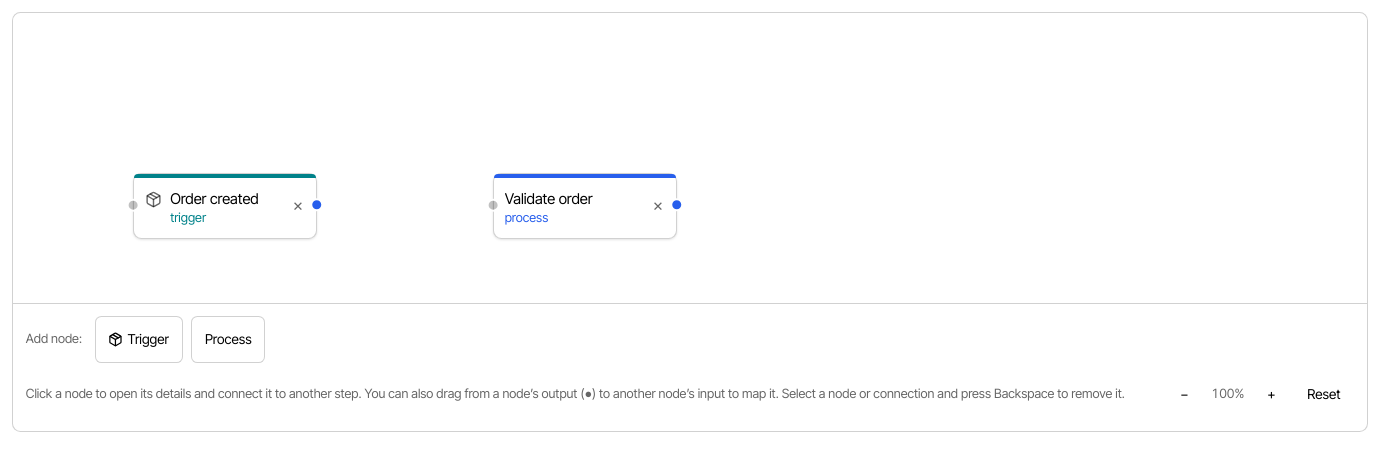
it: WorkflowMapper branches3 › deletes the selected node with the Delete key
Press the mouse on the option "Order created trigger ×": (225, 206) [133,173,317,239]
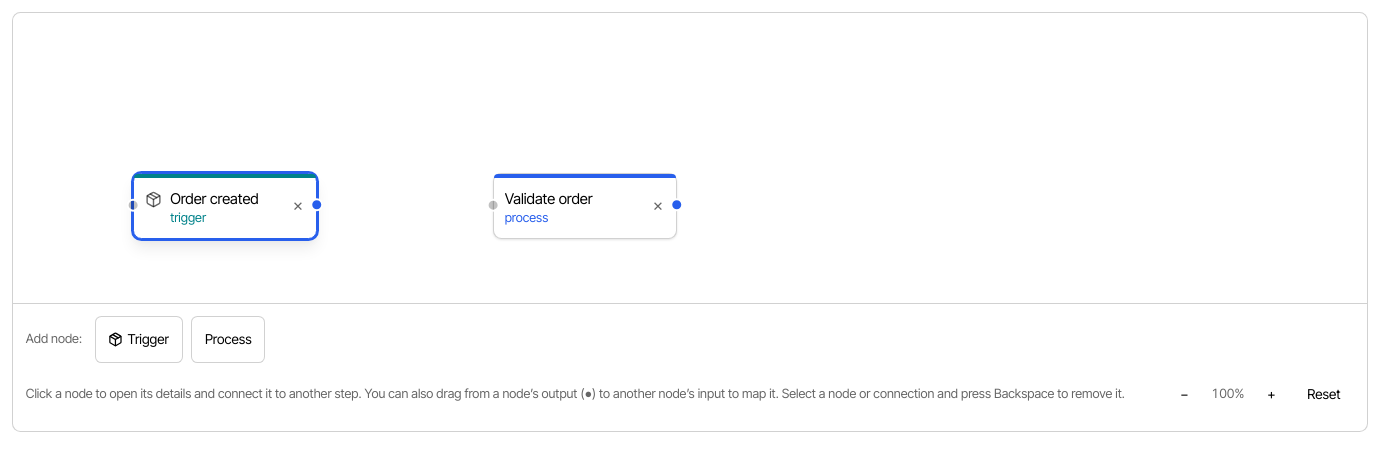
Press Delete in the option "Order created trigger ×", box [133,173,317,239]
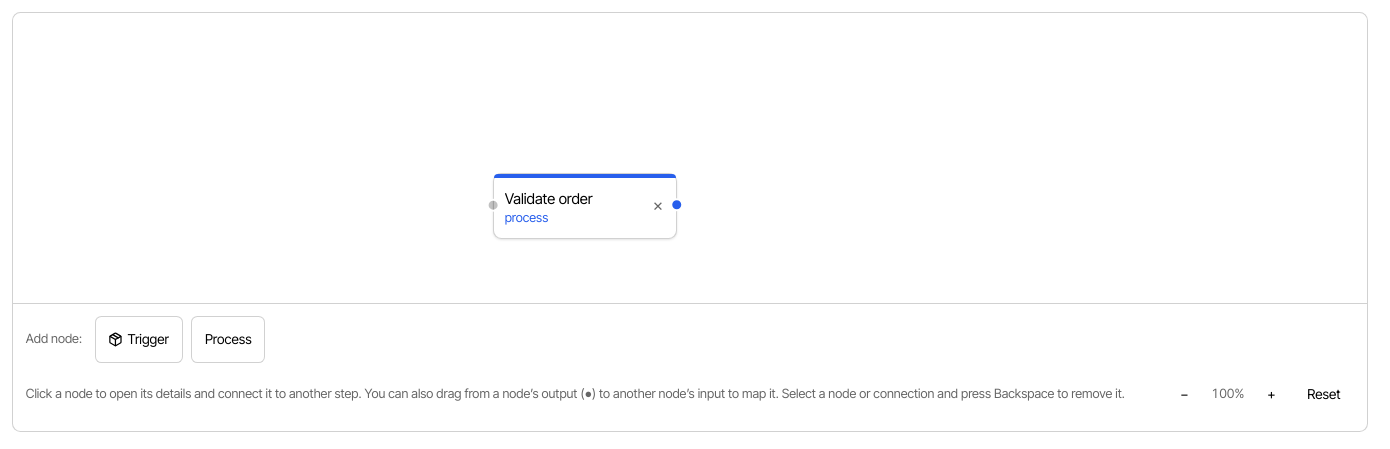
Check: the option "Order created" is gone
